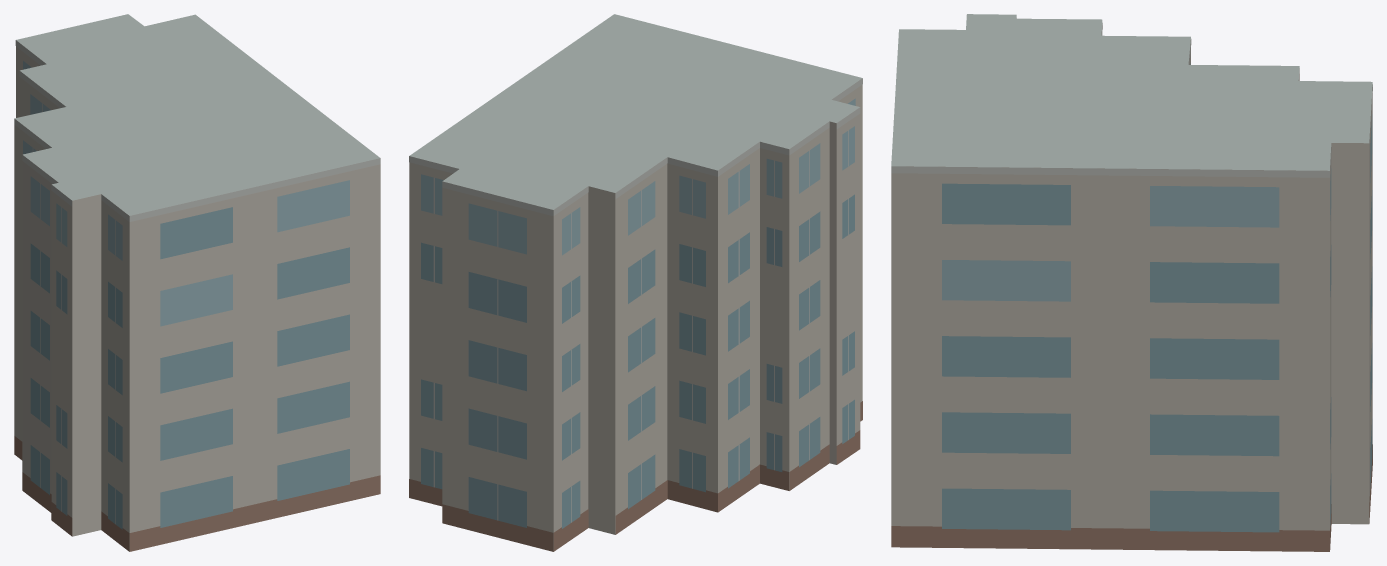
File: survey-upis-32646610.glb
3 renders of one model, left to right at view 1: azimuth 30°, elevation 25°; view 2: azimuth 150°, elevation 25°; view 3: azimuth 270°, elevation 25°, orthographic. The views are drawn at different scales.
Visible parts, largest first — view 1: survey-upis-32646610.tmp; view 2: survey-upis-32646610.tmp; view 3: survey-upis-32646610.tmp.
Boxes of the visible parts, bbox=[...] form: survey-upis-32646610.tmp: bbox=[14, 14, 380, 551]; survey-upis-32646610.tmp: bbox=[409, 14, 862, 551]; survey-upis-32646610.tmp: bbox=[891, 14, 1372, 551].
Bounding box in the file's own units: 11.75 × 13.3 × 15.25.
